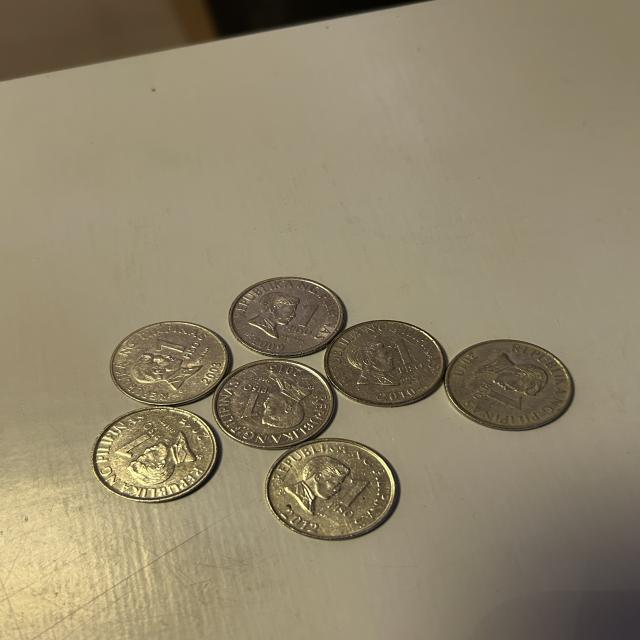1_Old_Front: (462, 375, 532, 417), (109, 419, 170, 462), (315, 479, 380, 519), (379, 337, 428, 382), (237, 376, 280, 426), (150, 336, 214, 366), (281, 298, 325, 340)
